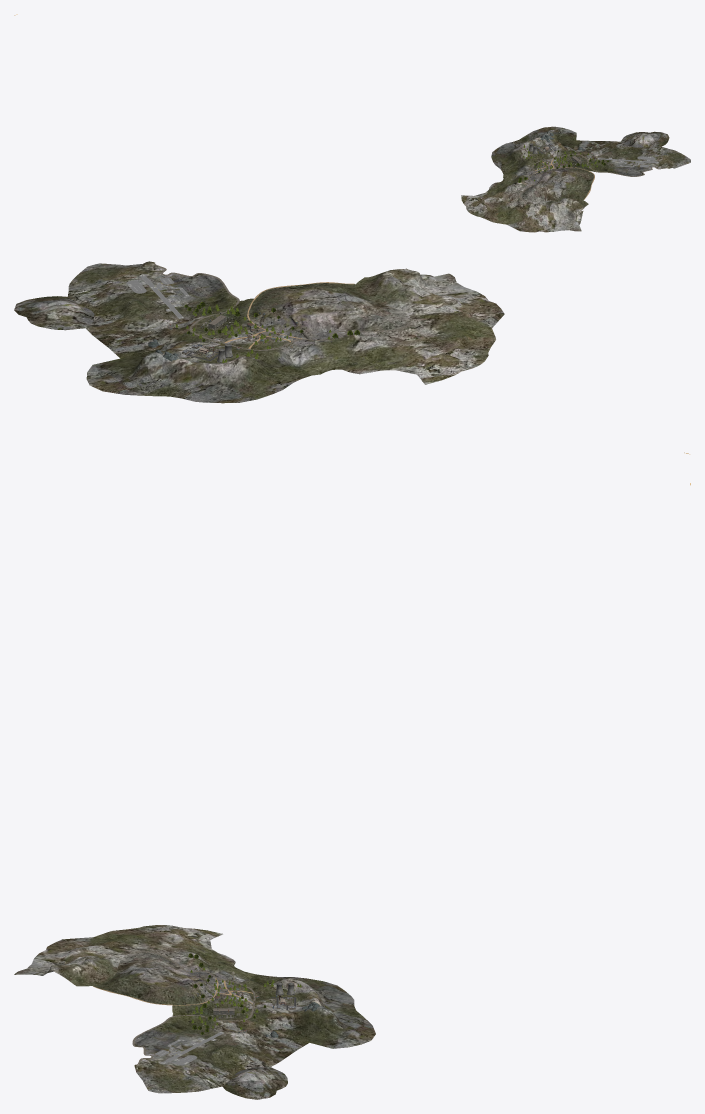
The model's file is bermuda.glb.
3 renders of one model, top to bottom at view 1: azimuth 30°, elevation 25°; view 2: azimuth 150°, elevation 25°; view 3: azimuth 270°, elevation 25°, orthographic. The views are drawn at different scales.
Parts seen in each view (by area): view 1: Main_Large_Terrain02.002, Main_Large_Terrain03.002, Main_Large_Terrain05.002, Main_Large_Terrain06.002; view 2: Main_Large_Terrain02.002, Main_Large_Terrain03.002, Main_Large_Terrain06.002, Main_Large_Terrain05.002, airport_road01, MainHighway_road02.002, MainHighway_road01.002; view 3: Main_Large_Terrain03.002, Main_Large_Terrain02.002, Main_Large_Terrain06.002, Main_Large_Terrain05.002.
Part boxes in pixels (x1,y1,x2,y2): Main_Large_Terrain02.002: [461, 166, 588, 232]; Main_Large_Terrain03.002: [573, 131, 690, 176]; Main_Large_Terrain05.002: [520, 154, 596, 202]; Main_Large_Terrain06.002: [491, 126, 578, 174]; Main_Large_Terrain02.002: [274, 268, 504, 384]; Main_Large_Terrain03.002: [14, 261, 237, 358]; Main_Large_Terrain06.002: [86, 334, 310, 403]; Main_Large_Terrain05.002: [191, 283, 410, 349]; airport_road01: [126, 274, 189, 318]; MainHighway_road02.002: [194, 322, 411, 350]; MainHighway_road01.002: [154, 262, 239, 333]; Main_Large_Terrain03.002: [134, 1015, 309, 1099]; Main_Large_Terrain02.002: [14, 925, 255, 986]; Main_Large_Terrain06.002: [243, 974, 375, 1048]; Main_Large_Terrain05.002: [93, 952, 254, 1020].
Size of what is drawn, in the model's own units: 843 by 225 by 614.
Materials: 64 (61 with a texture image).
